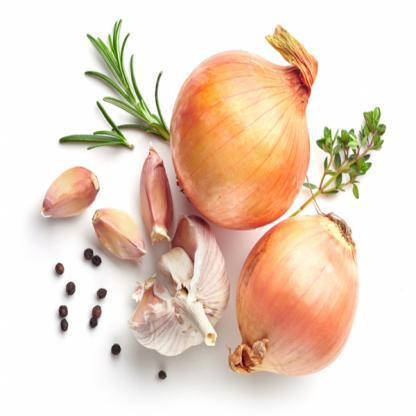onion: (179, 45, 305, 216), (250, 209, 350, 398)
